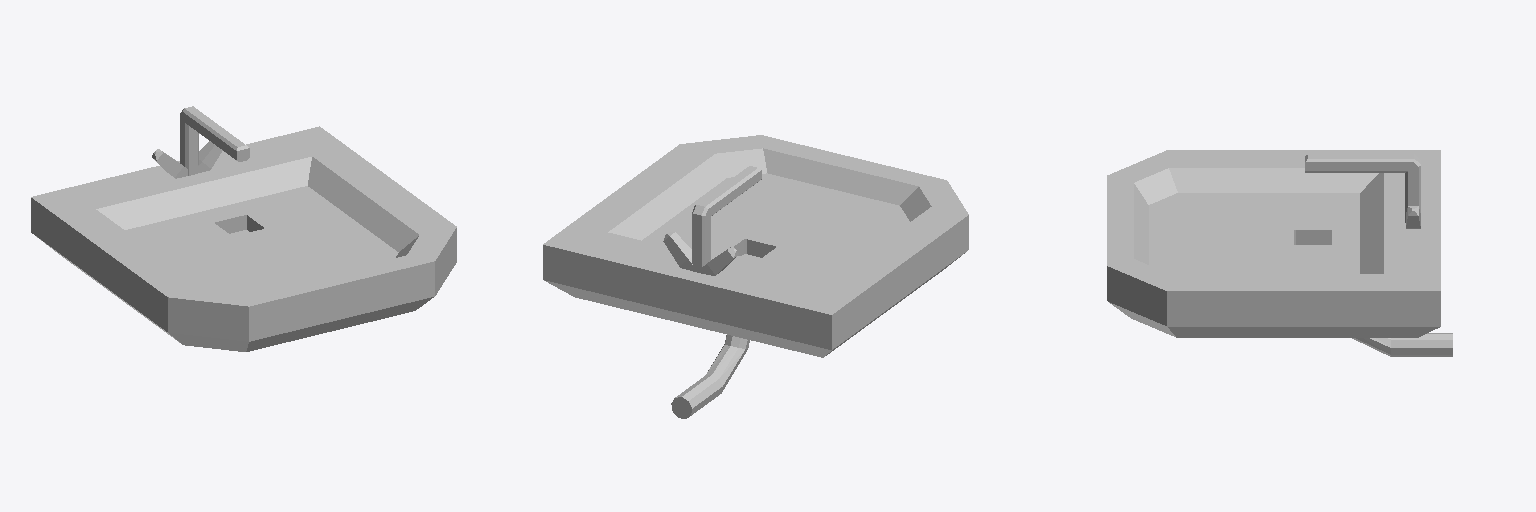
Rendered from sink.obj.
3 views of the same model, side by side, from view 1: azimuth 30°, elevation 25°; view 2: azimuth 150°, elevation 25°; view 3: azimuth 270°, elevation 25° (orthographic).
Parts seen in each view (by area): view 1: Cube, Cube.001; view 2: Cube, Cylinder, Cube.001; view 3: Cube, Cylinder.
Boxes of the visible parts, x1=… form: Cube: x1=31, y1=106, x2=456, y2=351; Cube.001: x1=152, y1=141, x2=222, y2=178; Cube: x1=543, y1=135, x2=968, y2=357; Cylinder: x1=671, y1=335, x2=749, y2=418; Cube.001: x1=663, y1=232, x2=738, y2=275; Cube: x1=1107, y1=150, x2=1440, y2=337; Cylinder: x1=1352, y1=333, x2=1452, y2=356.
Size of the model in its own units: 2 by 1.31 by 2.07.